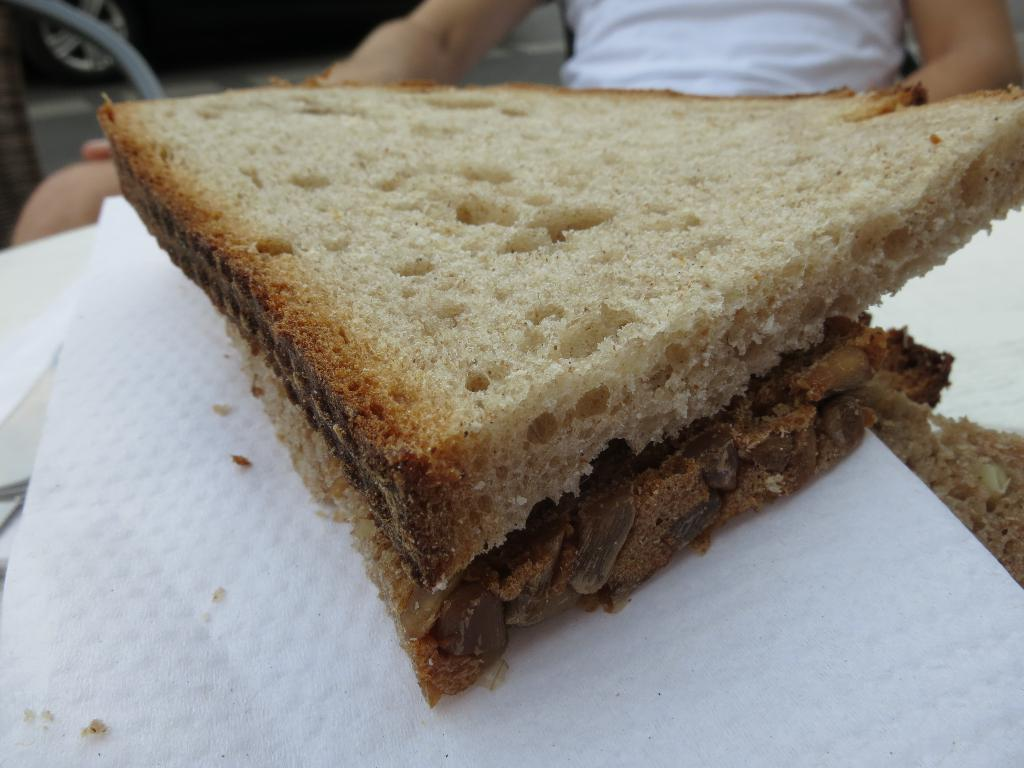sandwich: (93, 77, 1023, 705), (870, 413, 1023, 580)
